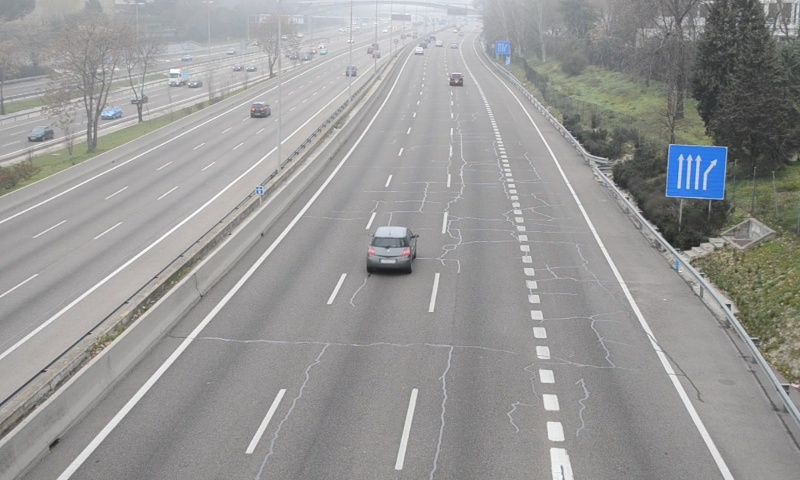car: (367, 226, 414, 272), (448, 72, 463, 86)
